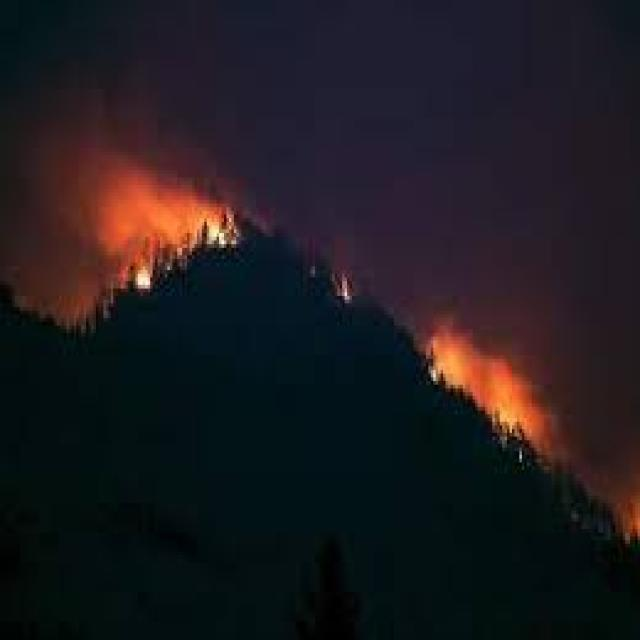Fire: (195, 226, 238, 251), (133, 260, 153, 300), (424, 362, 447, 386), (498, 407, 518, 430), (338, 274, 351, 303)
Smoke: (0, 0, 229, 341), (430, 319, 582, 462)
